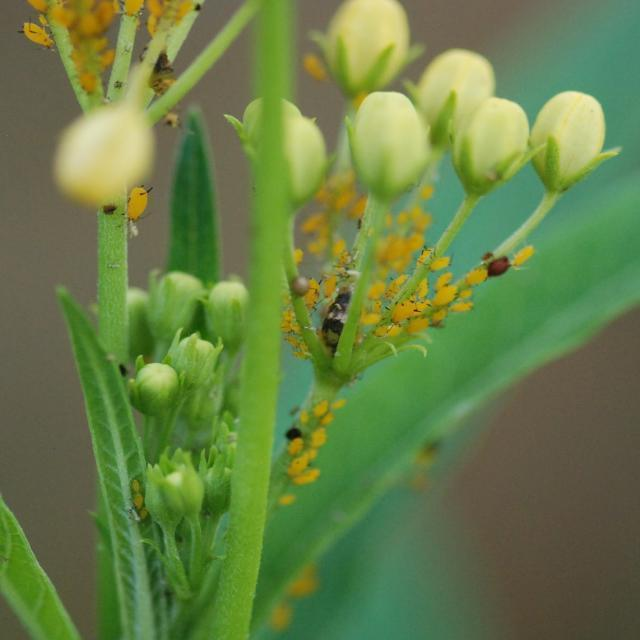Aphids: (109, 170, 177, 243), (389, 284, 435, 335)
